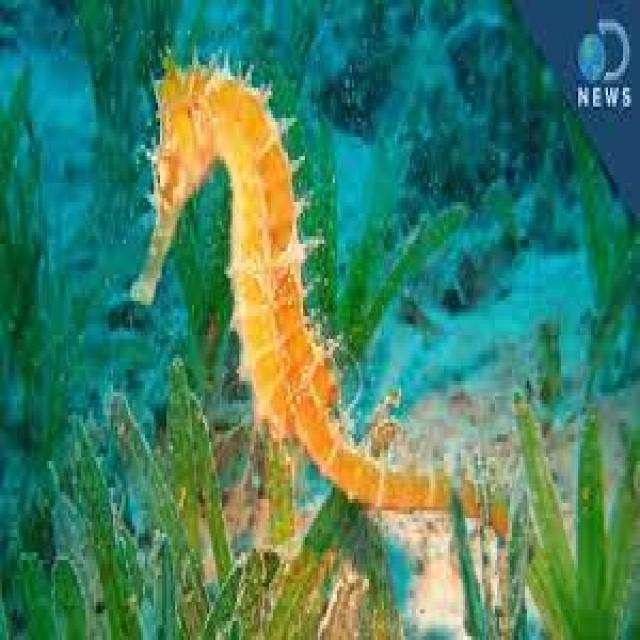SeaHorse: (136, 64, 452, 510)
